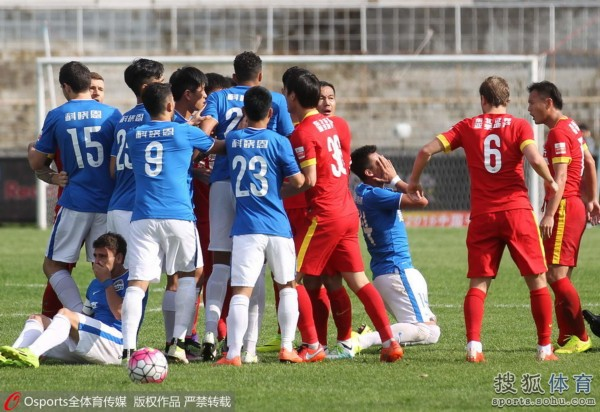10+: (1, 45, 600, 378)
down: (303, 137, 456, 363), (1, 223, 150, 366)
